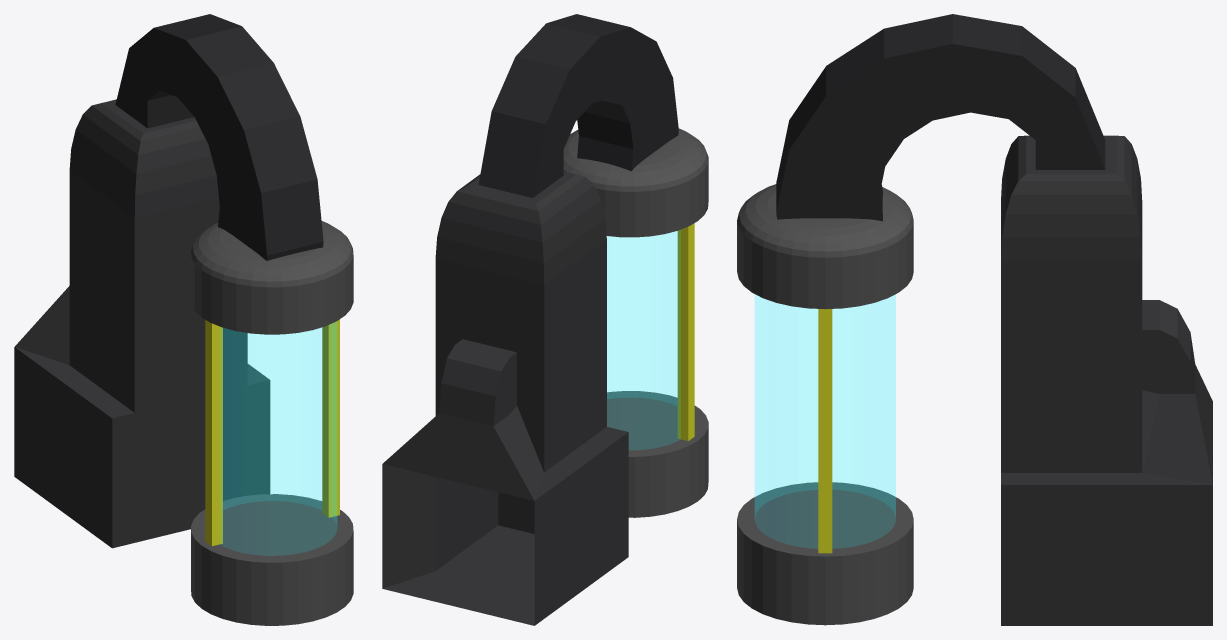
File: tube_labo123.fbx
The picture shows the model from 3 angles, left to right: view 1: azimuth 30°, elevation 25°; view 2: azimuth 150°, elevation 25°; view 3: azimuth 270°, elevation 25°; orthographic projection. The views are drawn at different scales.
Parts seen in each view (by area): view 1: Cube.002, Cube.003, Cylinder.001, Cylinder, Cylinder.002, Cube, Cube.001; view 2: Cube.002, Cube.003, Cylinder.001, Cylinder.002, Cylinder, Cube; view 3: Cube.002, Cube.003, Cylinder.001, Cylinder, Cylinder.002, Cube.001.
Part boxes in pixels (x1,y1,x2,y2): Cube.002: [14, 99, 270, 548]; Cube.003: [115, 14, 323, 260]; Cylinder.001: [223, 322, 336, 524]; Cylinder: [191, 494, 353, 625]; Cylinder.002: [191, 221, 353, 334]; Cube: [205, 320, 222, 546]; Cube.001: [322, 319, 339, 517]; Cube.002: [382, 171, 628, 625]; Cube.003: [478, 14, 678, 197]; Cylinder.001: [607, 231, 677, 406]; Cylinder.002: [563, 128, 708, 237]; Cylinder: [607, 391, 708, 517]; Cube: [677, 223, 694, 440]; Cube.002: [1001, 135, 1212, 625]; Cube.003: [776, 14, 1105, 221]; Cylinder.001: [755, 295, 895, 517]; Cylinder: [737, 482, 913, 625]; Cylinder.002: [737, 184, 913, 309]; Cube.001: [818, 309, 832, 553].
Bounding box in the file's own units: 280 × 873 × 673.
